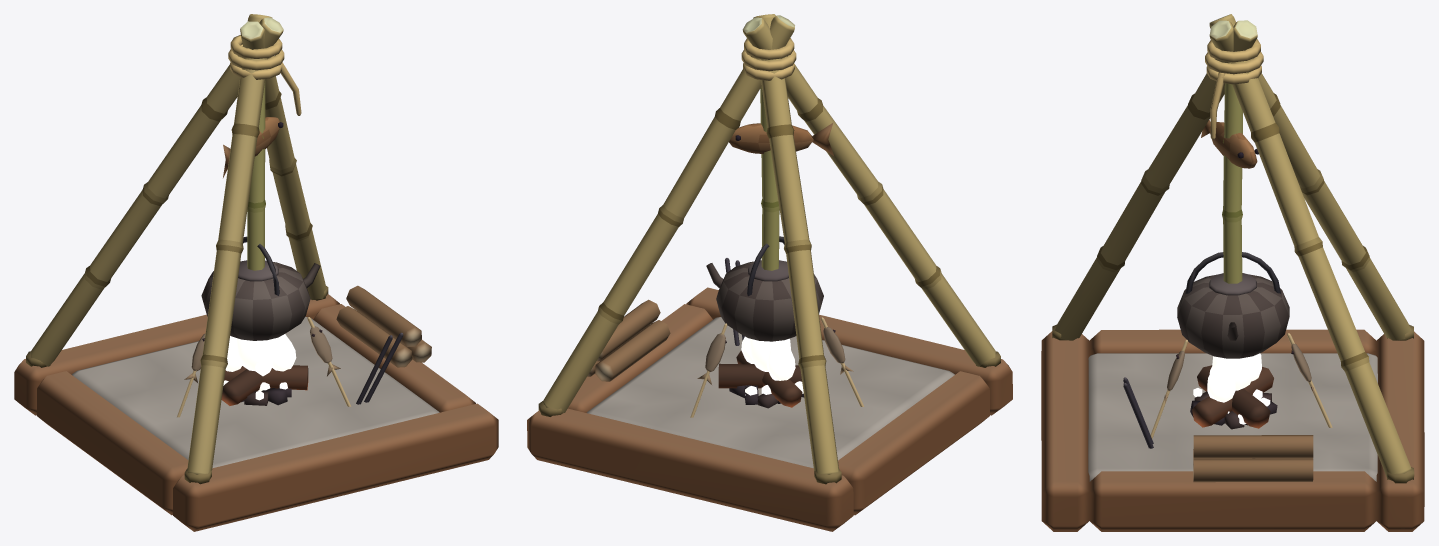
Rendered from furn-irori.glb.
3 views of the same model, side by side, from view 1: azimuth 30°, elevation 25°; view 2: azimuth 150°, elevation 25°; view 3: azimuth 270°, elevation 25° (orthographic). The views are drawn at different scales.
Visible parts, largest first — view 1: furn; view 2: furn; view 3: furn.
Part boxes in pixels (<box>): furn: <box>14,14,498,531</box>; furn: <box>527,14,1012,531</box>; furn: <box>1041,14,1424,531</box>.
Bounding box in the file's own units: 0.9613 × 1.21 × 0.9612.
